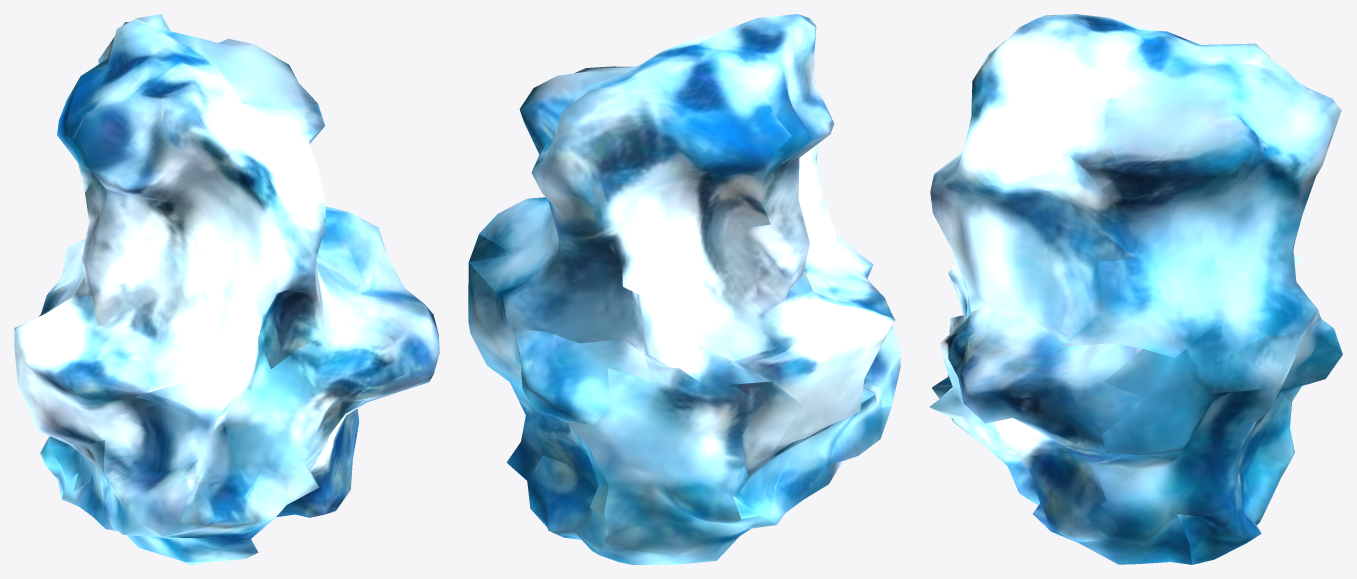
File: crystal-haiku_cosmos_02.glb
3 renders of one model, left to right at view 1: azimuth 30°, elevation 25°; view 2: azimuth 150°, elevation 25°; view 3: azimuth 270°, elevation 25°, orthographic. The views are drawn at different scales.
Visible parts, largest first — view 1: mesh_node.003; view 2: mesh_node.003; view 3: mesh_node.003.
Boxes of the visible parts, left/top/right/bottom form: mesh_node.003: left=14, top=14, right=439, bottom=564; mesh_node.003: left=468, top=14, right=900, bottom=564; mesh_node.003: left=929, top=14, right=1342, bottom=564.
Bounding box in the file's own units: 0.3232 × 0.418 × 0.3164.
Materials: 1 (1 with a texture image).
